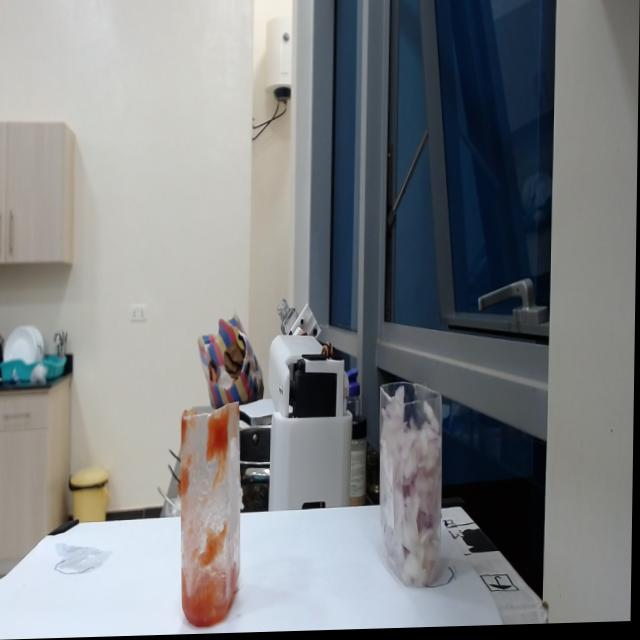blended_tomatoes_pepper: (183, 416, 245, 630)
sliced_onions: (383, 389, 444, 599)
